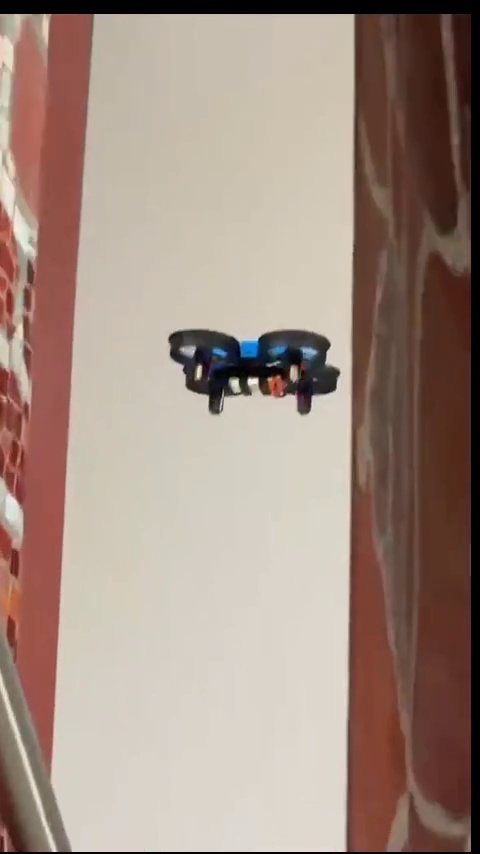drone: (166, 331, 341, 412)
